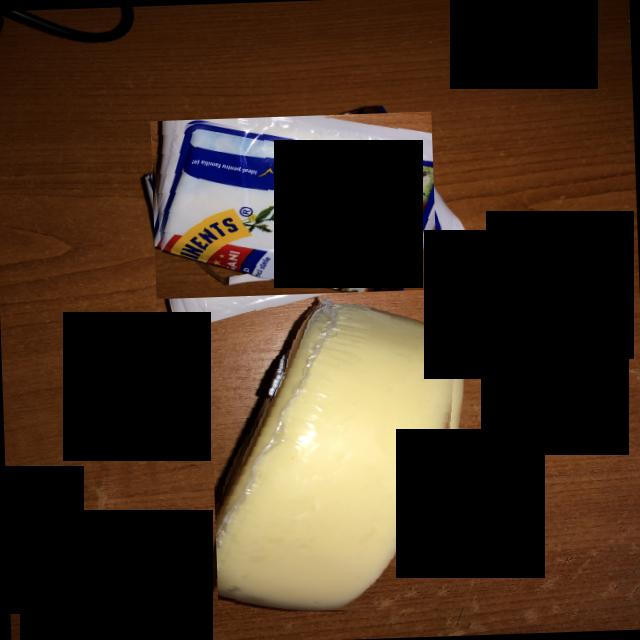cheese: (208, 300, 470, 614), (150, 111, 437, 299)
